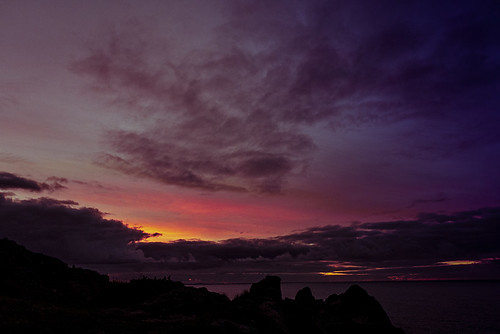mountain: (145, 265, 393, 318)
sky: (1, 1, 500, 237)
